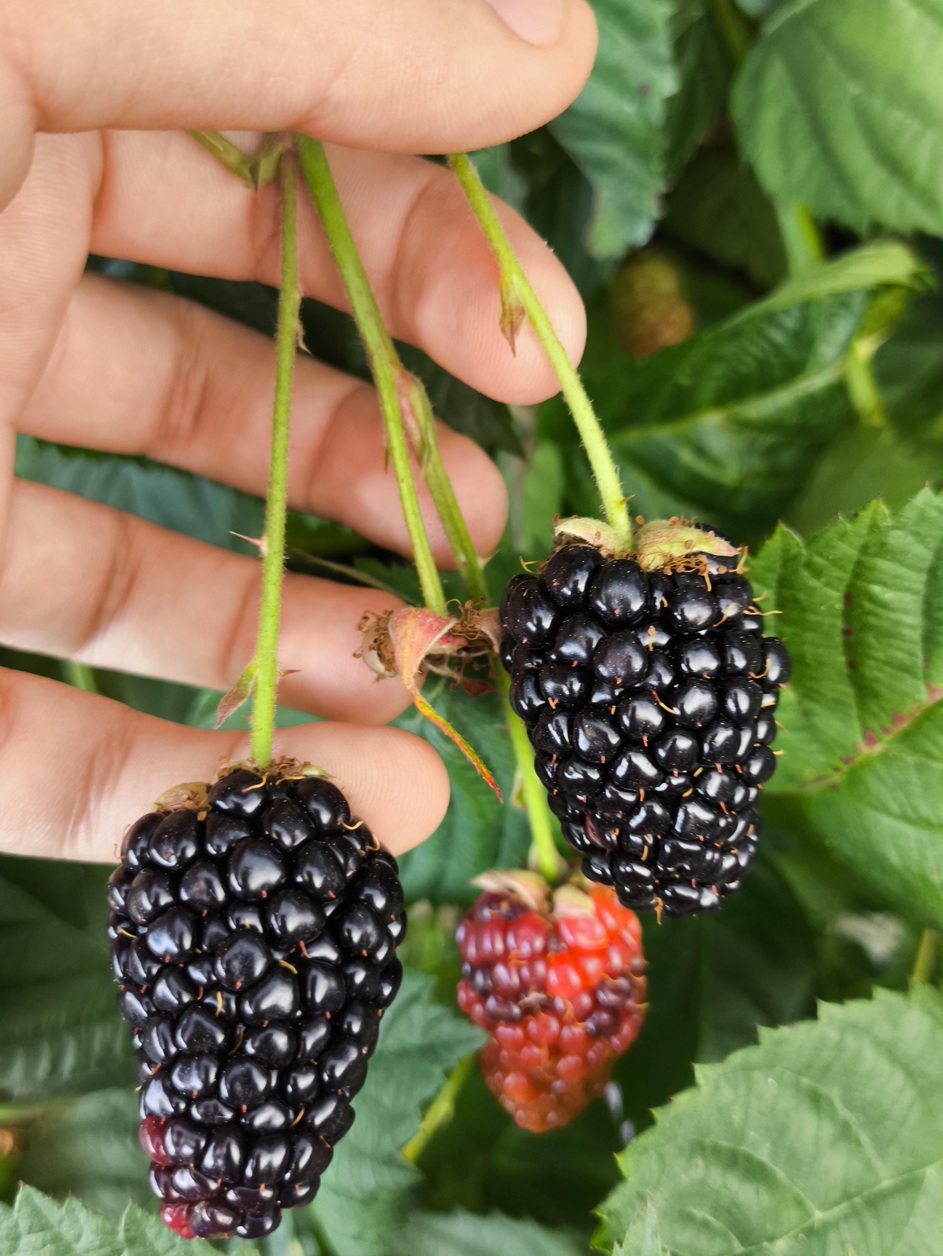maduro: (103, 754, 399, 1225), (508, 549, 781, 903)
marron: (456, 872, 646, 1133)
